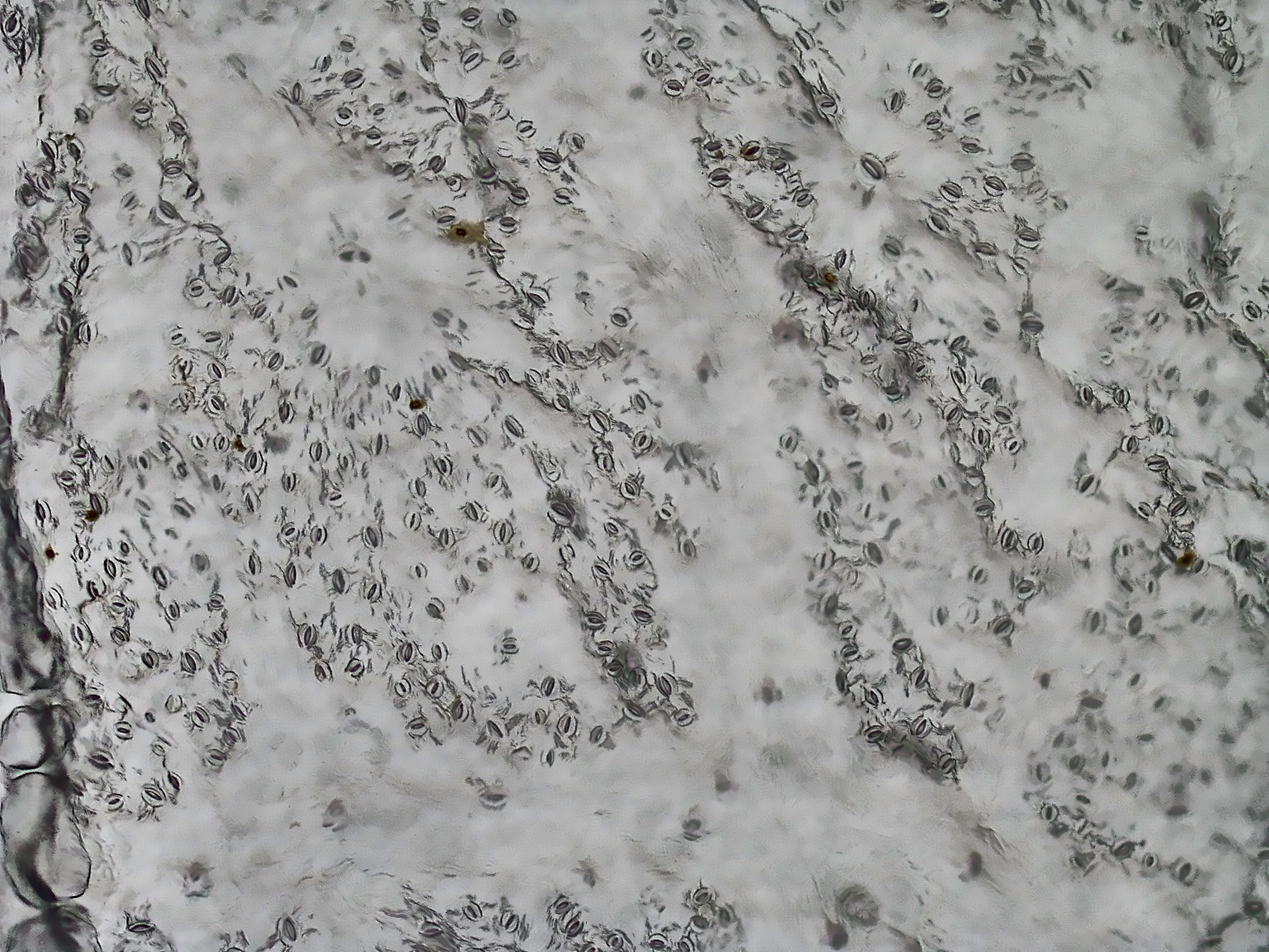stomata: (547, 498, 575, 528), (278, 914, 304, 946), (861, 154, 885, 181), (66, 182, 92, 206), (523, 285, 551, 307), (481, 785, 510, 806), (671, 31, 698, 53), (63, 135, 84, 163), (180, 649, 202, 675), (117, 240, 138, 267), (1158, 363, 1179, 390), (1164, 21, 1184, 49), (1174, 861, 1198, 884), (146, 54, 165, 83), (1074, 66, 1095, 92), (1229, 537, 1249, 564), (597, 339, 621, 361), (71, 620, 92, 645), (502, 415, 523, 440), (461, 47, 483, 70), (550, 341, 572, 364), (780, 425, 798, 453), (164, 770, 185, 794), (38, 137, 58, 162), (150, 564, 170, 589), (982, 177, 1007, 197), (102, 556, 121, 582), (298, 622, 316, 649), (484, 716, 506, 738), (171, 498, 194, 519), (537, 150, 561, 170), (141, 786, 166, 805), (89, 750, 115, 768), (73, 253, 95, 274), (280, 272, 301, 294), (589, 411, 611, 432), (1223, 49, 1244, 71), (864, 544, 884, 567), (78, 322, 97, 346), (32, 501, 51, 525), (494, 520, 513, 544), (912, 714, 931, 738), (451, 98, 469, 123), (887, 89, 905, 114), (245, 549, 261, 577), (1086, 605, 1103, 631), (631, 390, 651, 412), (558, 715, 578, 737), (794, 30, 814, 52), (35, 170, 54, 193), (1079, 474, 1098, 497), (962, 683, 979, 708), (909, 294, 926, 319), (311, 345, 331, 366), (411, 479, 432, 499), (740, 140, 761, 160), (863, 685, 883, 706), (1117, 580, 1137, 601), (2, 15, 22, 36), (130, 102, 152, 121), (244, 450, 263, 472), (362, 526, 381, 548), (399, 642, 418, 664), (940, 179, 962, 198), (843, 455, 865, 474), (583, 612, 606, 630), (1243, 301, 1261, 324), (891, 635, 914, 653), (499, 910, 517, 933), (1025, 179, 1049, 196), (806, 459, 823, 483), (385, 57, 402, 81), (619, 479, 639, 499), (881, 239, 901, 259), (1010, 154, 1035, 170), (975, 243, 1000, 259), (856, 352, 881, 368), (309, 440, 328, 461), (468, 424, 487, 445), (632, 430, 651, 451), (1184, 291, 1205, 310), (55, 312, 73, 334), (88, 38, 110, 56), (134, 494, 152, 516), (413, 415, 431, 437), (90, 492, 107, 515), (623, 703, 646, 720), (708, 169, 731, 186), (815, 548, 832, 571), (566, 914, 583, 937), (1235, 592, 1252, 615), (332, 569, 348, 593), (419, 922, 443, 938), (1118, 540, 1134, 564), (207, 360, 226, 380), (465, 503, 484, 523), (592, 560, 611, 580), (462, 900, 481, 920), (774, 67, 793, 87), (970, 564, 989, 584), (1167, 496, 1187, 515), (363, 126, 384, 144), (184, 181, 202, 202), (165, 327, 186, 345), (541, 676, 559, 697), (993, 617, 1014, 635), (1127, 612, 1145, 633), (1004, 437, 1025, 455), (387, 161, 412, 176), (418, 18, 440, 35), (207, 749, 229, 766), (1151, 414, 1168, 436), (406, 719, 429, 735), (660, 673, 676, 696), (959, 137, 982, 153), (1144, 574, 1160, 597), (1111, 840, 1134, 856), (169, 118, 188, 137), (610, 307, 630, 325), (1212, 12, 1232, 30), (309, 524, 326, 545), (346, 624, 363, 645), (425, 680, 446, 697), (104, 793, 125, 810), (1126, 672, 1147, 689), (367, 103, 389, 119), (213, 432, 229, 454), (371, 434, 387, 456), (279, 400, 295, 422), (521, 552, 537, 574), (952, 365, 968, 387), (458, 571, 473, 594), (453, 699, 468, 722), (121, 191, 139, 210), (301, 304, 319, 323), (524, 368, 542, 387), (346, 658, 365, 676), (516, 119, 534, 138), (664, 79, 683, 97), (1014, 65, 1032, 84), (1031, 762, 1049, 781), (190, 551, 207, 571), (510, 187, 530, 204), (426, 597, 443, 617), (1012, 257, 1029, 277), (823, 594, 840, 614), (554, 895, 574, 912), (877, 484, 897, 501), (931, 473, 951, 490), (165, 596, 179, 620), (267, 350, 283, 371), (429, 308, 450, 324), (1018, 230, 1042, 244), (822, 373, 838, 394), (886, 381, 902, 402), (945, 404, 961, 425), (835, 672, 849, 696), (938, 753, 954, 774), (975, 425, 988, 450), (115, 722, 133, 740), (818, 512, 836, 530), (73, 545, 90, 564), (74, 103, 91, 122), (223, 727, 240, 746), (461, 9, 480, 26), (497, 9, 516, 26), (649, 933, 668, 950), (1121, 434, 1138, 453), (1190, 556, 1207, 575), (290, 82, 304, 105), (163, 163, 183, 179), (58, 281, 74, 301), (99, 452, 115, 472), (596, 452, 612, 472), (432, 643, 448, 663), (316, 662, 332, 682), (634, 604, 654, 620), (979, 318, 999, 334), (1001, 530, 1017, 550), (342, 69, 363, 84), (568, 132, 583, 153), (991, 406, 1012, 421), (863, 726, 884, 741), (932, 606, 947, 627), (971, 500, 992, 515), (833, 625, 857, 638), (1027, 533, 1041, 555), (1193, 386, 1207, 408), (112, 627, 129, 645), (605, 520, 622, 538), (192, 708, 209, 726), (930, 214, 947, 232), (894, 332, 912, 349), (691, 916, 709, 933), (448, 354, 466, 371), (222, 286, 238, 305), (404, 511, 420, 530), (173, 461, 189, 480), (203, 332, 222, 348), (58, 469, 77, 485), (45, 587, 61, 606), (142, 650, 158, 669), (365, 583, 381, 602), (553, 189, 572, 205), (693, 69, 712, 85), (1023, 319, 1042, 335), (912, 668, 928, 687), (1040, 804, 1056, 823), (1014, 582, 1034, 597), (487, 243, 504, 260), (394, 679, 411, 696), (166, 694, 183, 711), (723, 21, 740, 38), (1071, 855, 1088, 872), (116, 538, 133, 555), (72, 227, 90, 243), (252, 301, 270, 317), (553, 393, 571, 409), (410, 561, 426, 579), (747, 202, 765, 218), (771, 158, 789, 174), (1107, 321, 1125, 337), (637, 24, 655, 40), (283, 564, 296, 586), (476, 168, 498, 181), (633, 668, 646, 690), (436, 456, 451, 475), (429, 154, 444, 173), (860, 289, 875, 308), (910, 59, 925, 78), (431, 363, 446, 382), (244, 494, 258, 514), (681, 539, 695, 559), (705, 142, 725, 156), (368, 364, 381, 385), (1145, 456, 1166, 469), (335, 108, 352, 124), (72, 448, 88, 465), (645, 50, 662, 66), (980, 373, 996, 390), (607, 933, 623, 950), (159, 200, 174, 218), (136, 453, 151, 471), (207, 396, 222, 414), (328, 490, 346, 505), (786, 226, 804, 241), (692, 888, 710, 903), (495, 366, 509, 385), (498, 218, 517, 232), (499, 52, 518, 66), (1114, 389, 1128, 408), (109, 595, 125, 611), (591, 727, 607, 743), (187, 280, 204, 295), (282, 523, 297, 540), (232, 702, 247, 719), (337, 37, 354, 52), (316, 56, 331, 73), (794, 191, 811, 206), (924, 114, 941, 129), (1136, 503, 1153, 518), (659, 502, 674, 519), (207, 595, 225, 609), (440, 528, 454, 546), (879, 413, 891, 434), (1069, 756, 1083, 774), (1142, 853, 1156, 871), (922, 263, 935, 282), (392, 89, 408, 104), (436, 214, 456, 226), (802, 266, 818, 281), (819, 98, 835, 113), (840, 406, 856, 421), (841, 647, 861, 659), (488, 475, 502, 492), (1146, 313, 1163, 327), (628, 552, 646, 565), (596, 642, 614, 655), (911, 362, 929, 375), (210, 475, 225, 490), (504, 638, 518, 654), (676, 711, 692, 725), (605, 661, 621, 675), (179, 391, 195, 405), (496, 141, 512, 155), (1135, 226, 1151, 240), (338, 453, 352, 469), (283, 473, 296, 490), (532, 708, 545, 725), (1080, 384, 1091, 404), (95, 84, 113, 96), (925, 83, 943, 95), (1025, 42, 1043, 54), (950, 339, 968, 351), (210, 629, 225, 643), (193, 433, 206, 449), (1098, 351, 1113, 364), (544, 750, 556, 766), (964, 109, 980, 121), (446, 176, 460, 189), (152, 739, 163, 755), (837, 250, 846, 269)
